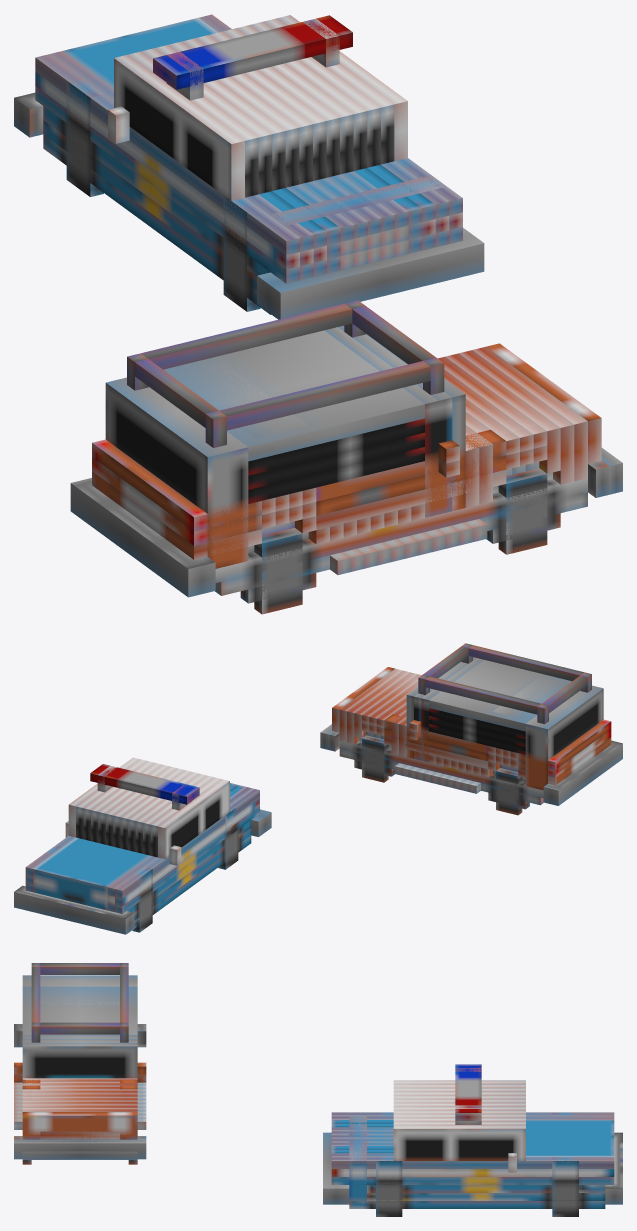
Rendered from cars.obj.
3 renders of one model, top to bottom at view 1: azimuth 30°, elevation 25°; view 2: azimuth 150°, elevation 25°; view 3: azimuth 270°, elevation 25°, orthographic. The views are drawn at different scales.
Parts seen in each view (by area): view 1: cars; view 2: cars; view 3: cars.
Part boxes in pixels (bbox=[...]): cars: bbox=[14, 14, 622, 614]; cars: bbox=[14, 643, 622, 934]; cars: bbox=[14, 963, 622, 1216].
Bounding box in the file's own units: 42 × 14 × 69.
Materials: 1 (1 with a texture image).
